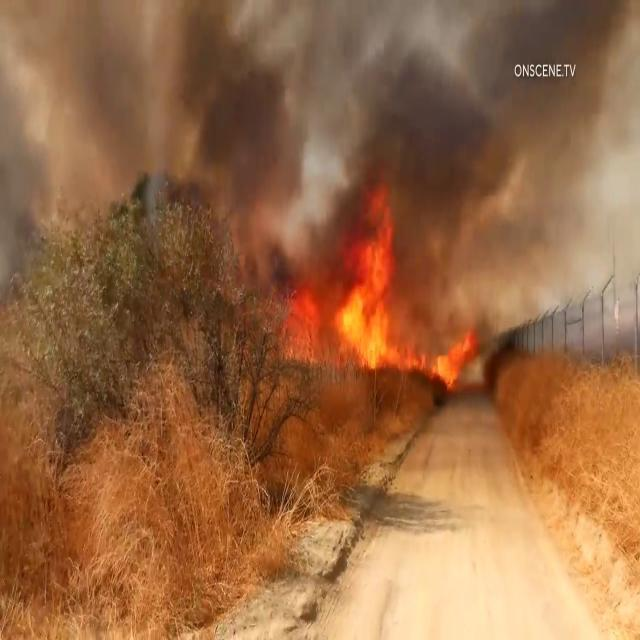Fire: (287, 210, 407, 372), (422, 325, 478, 392)
Smoke: (1, 0, 632, 284)
